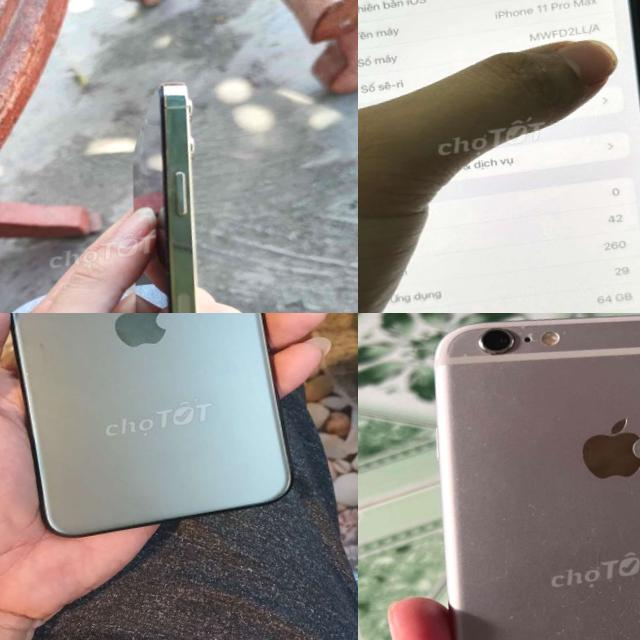scratch: (506, 578, 640, 640), (450, 313, 548, 369)
